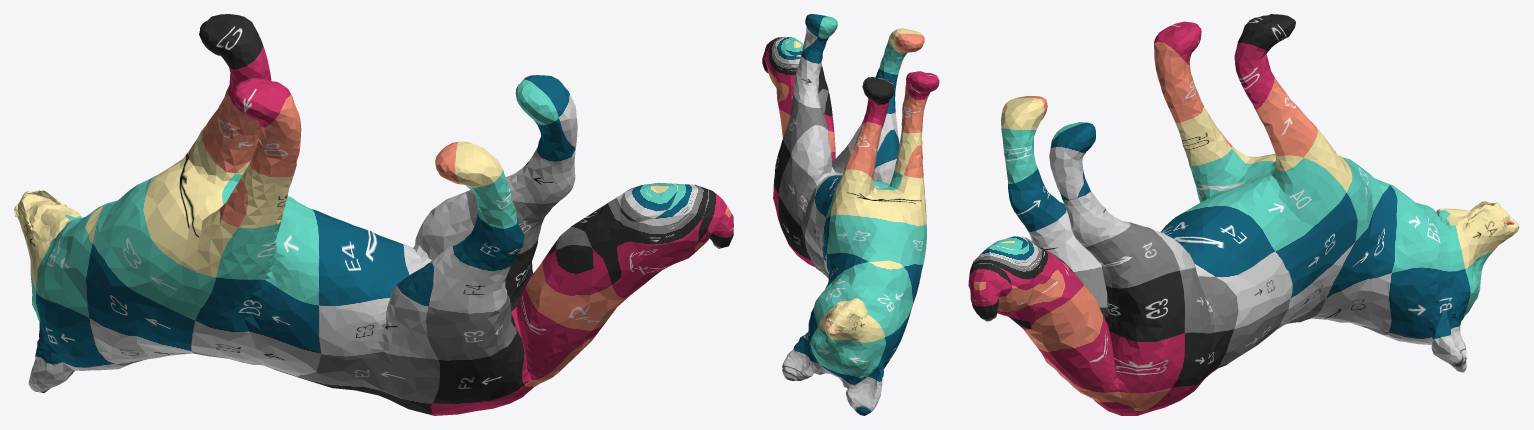
File: horse_01-fox_01.obj
The picture shows the model from 3 angles, left to right: view 1: azimuth 30°, elevation 25°; view 2: azimuth 150°, elevation 25°; view 3: azimuth 270°, elevation 25°; orthographic projection. The views are drawn at different scales.
Visible parts, largest first — view 1: horse_01-fox_01_export; view 2: horse_01-fox_01_export; view 3: horse_01-fox_01_export.
Part boxes in pixels (<box>): horse_01-fox_01_export: <box>14,14,733,415</box>; horse_01-fox_01_export: <box>762,14,939,415</box>; horse_01-fox_01_export: <box>968,14,1519,415</box>.
Size of the model in its own units: 0.6995 by 0.6346 by 0.8544.
